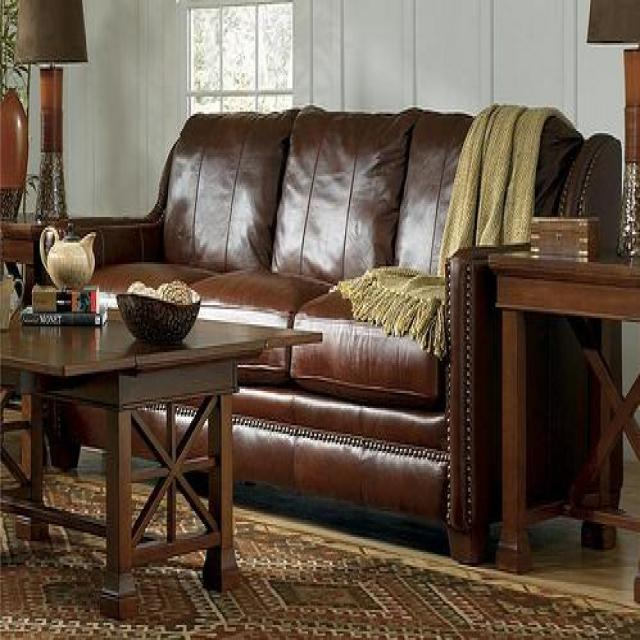sofa: (51, 105, 627, 563)
